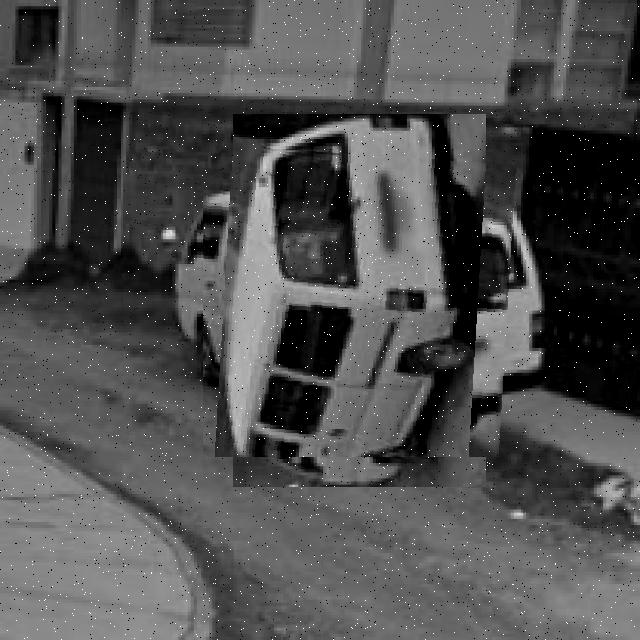car: (204, 145, 517, 458)
